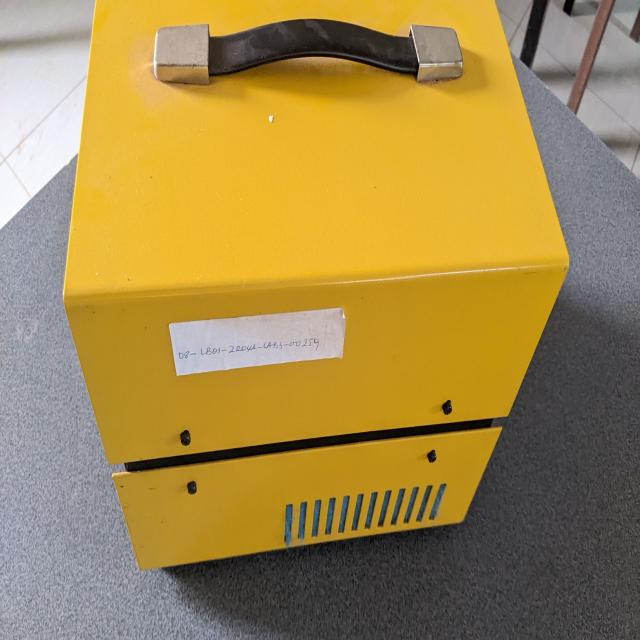Vacuum Pump: (50, 3, 574, 570)
